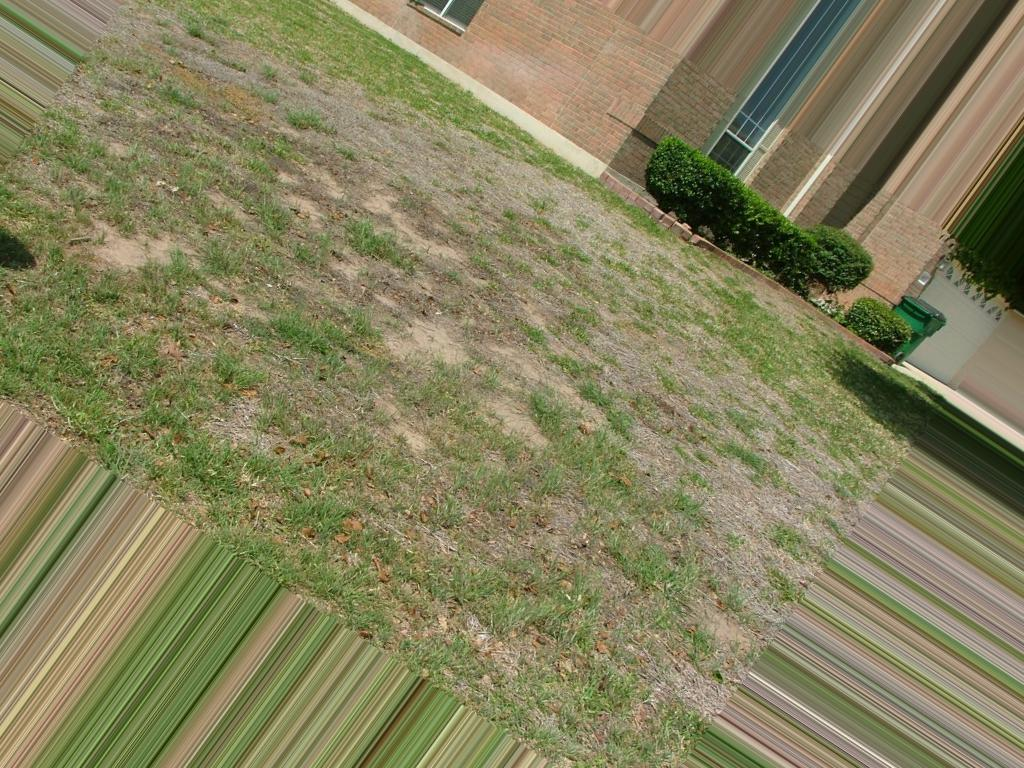patch: (369, 124, 520, 223), (710, 427, 779, 583), (550, 181, 625, 277), (625, 325, 709, 403), (401, 317, 464, 359), (556, 502, 595, 540), (504, 350, 568, 372), (94, 236, 146, 262)
